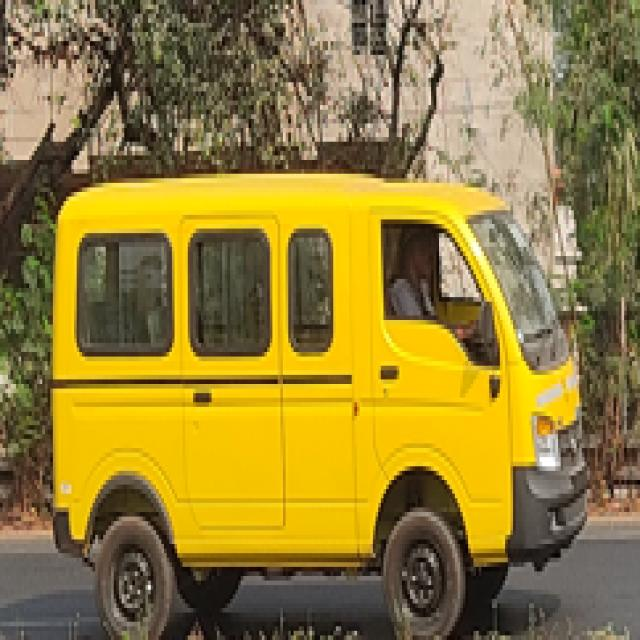van: (45, 164, 590, 640)
